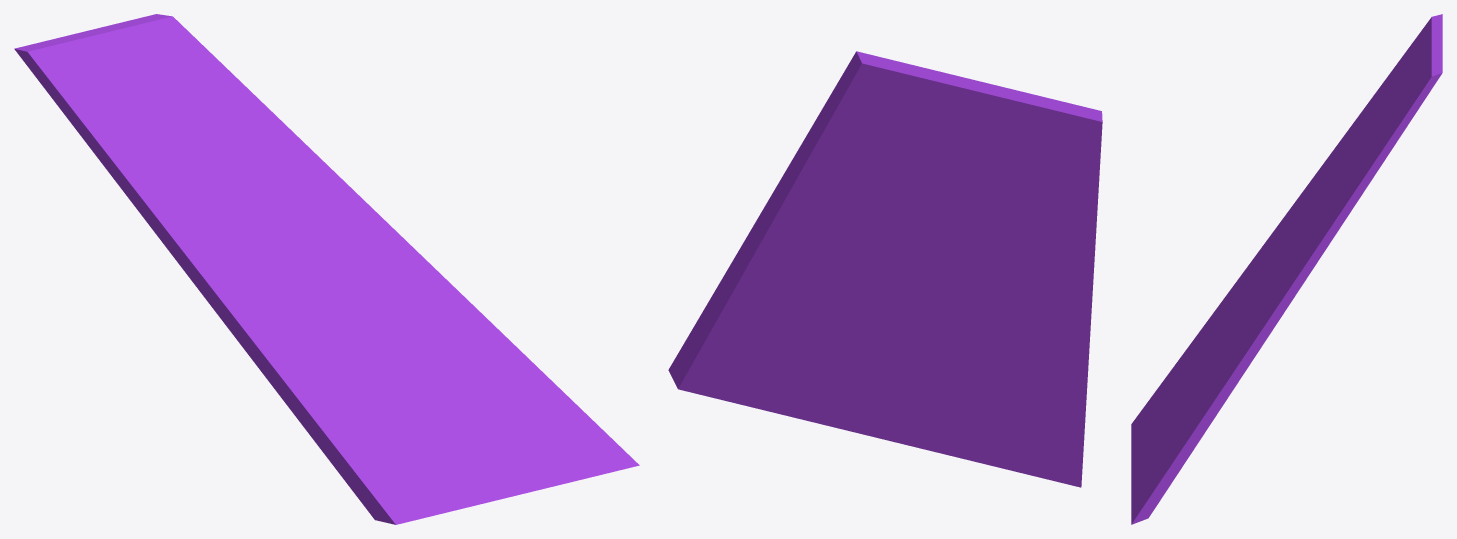
Rendered from Window_83.fbx.
The picture shows the model from 3 angles, left to right: view 1: azimuth 30°, elevation 25°; view 2: azimuth 150°, elevation 25°; view 3: azimuth 270°, elevation 25°; orthographic projection. The views are drawn at different scales.
Parts seen in each view (by area): view 1: Window_83; view 2: Window_83; view 3: Window_83.
Boxes of the visible parts, x1,y1,x2,y2 form: Window_83: (14, 14, 639, 524); Window_83: (668, 51, 1102, 487); Window_83: (1131, 14, 1442, 524).
Bounding box in the file's own units: 1139 × 960 × 824.
